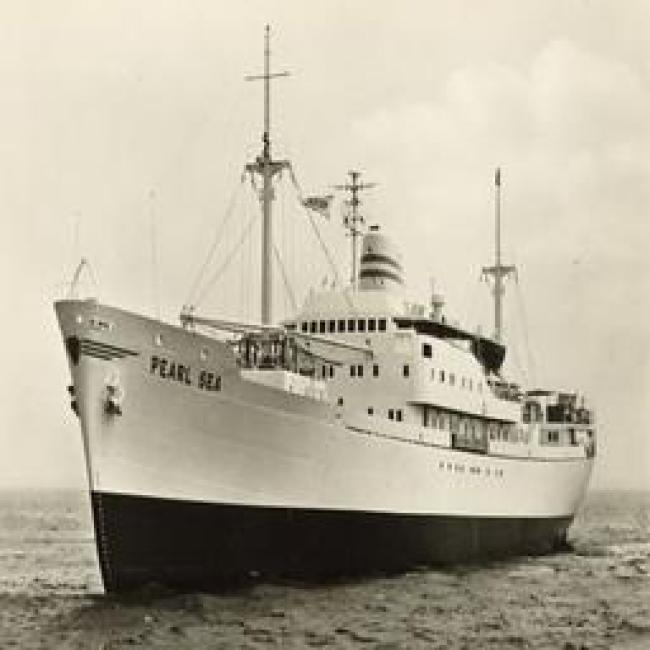Ship: (12, 231, 622, 562)
